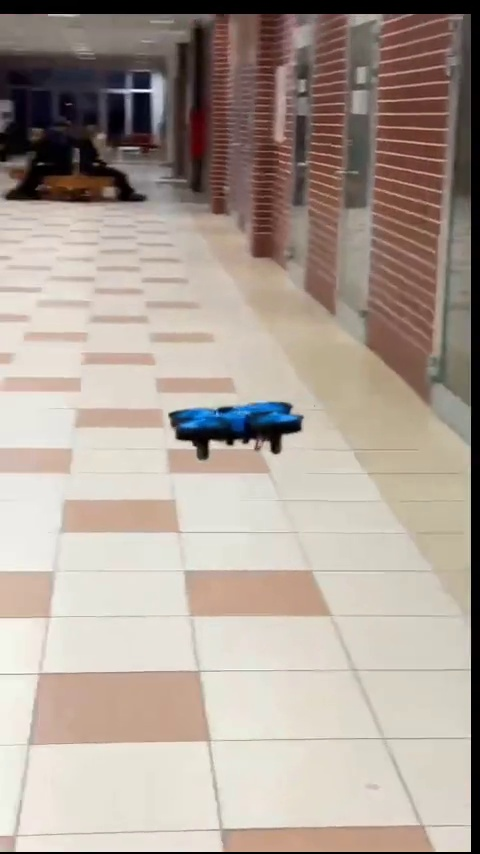drone: (172, 405, 302, 458)
